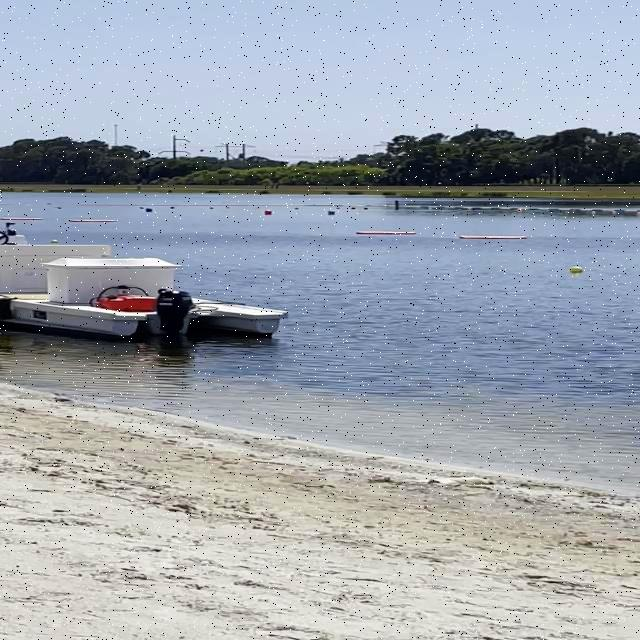buoy: (569, 265, 585, 274), (264, 209, 272, 214), (146, 208, 154, 212), (328, 210, 335, 214)
